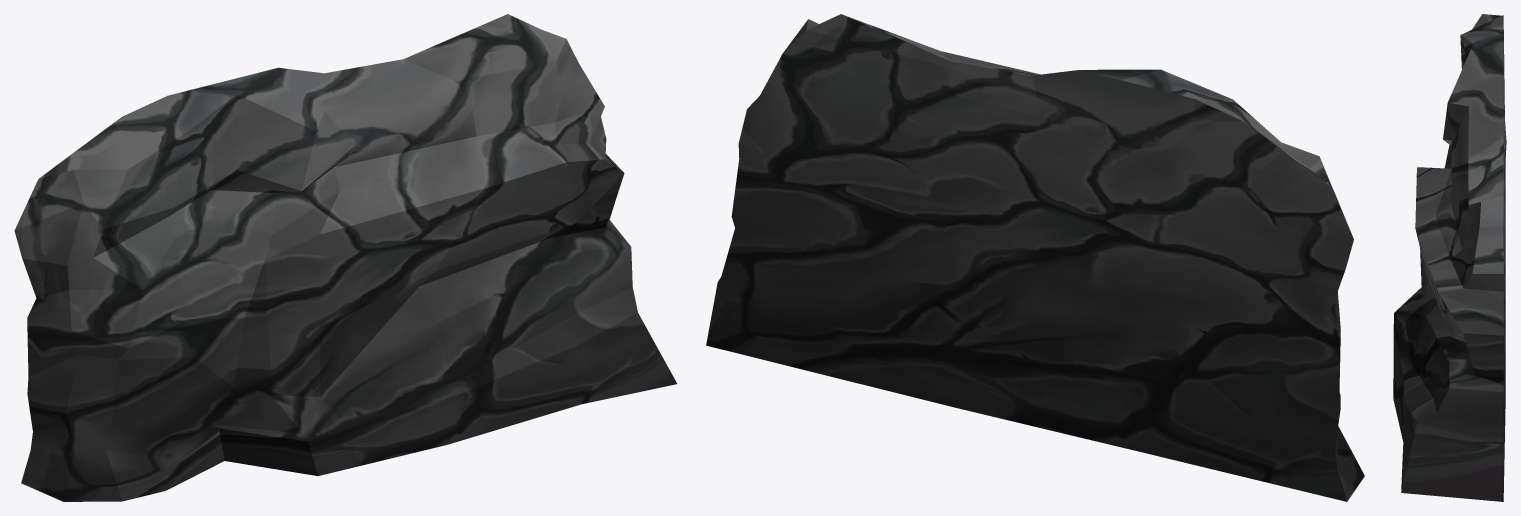
Rendered from fanasty_mod_stone_wall01.fbx.
3 renders of one model, left to right at view 1: azimuth 30°, elevation 25°; view 2: azimuth 150°, elevation 25°; view 3: azimuth 270°, elevation 25°, orthographic. The views are drawn at different scales.
Visible parts, largest first — view 1: stone_wall01; view 2: stone_wall01; view 3: stone_wall01.
Boxes of the visible parts, x1,y1,x2,y2 form: stone_wall01: (14,14,677,501); stone_wall01: (706,14,1364,501); stone_wall01: (1393,14,1506,501).
Bounding box in the file's own units: 3.17 × 1.72 × 0.6075.
